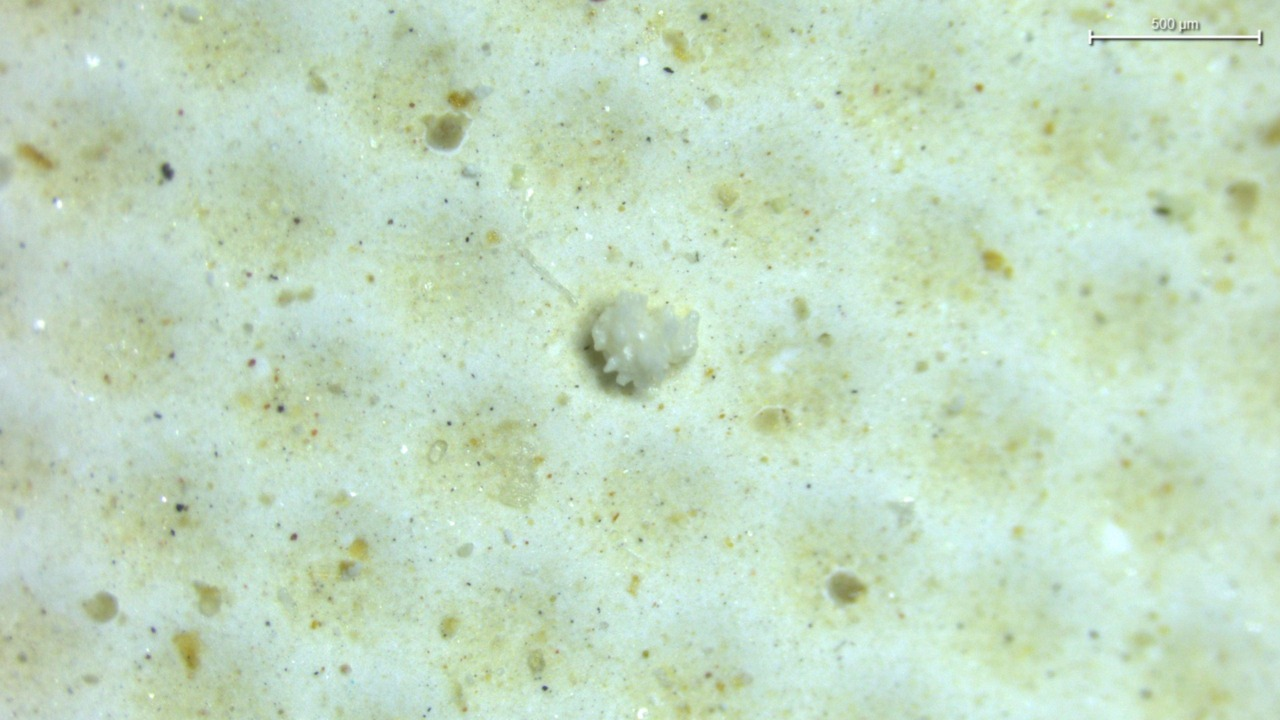microplastic_fragment: (591, 291, 699, 392)
